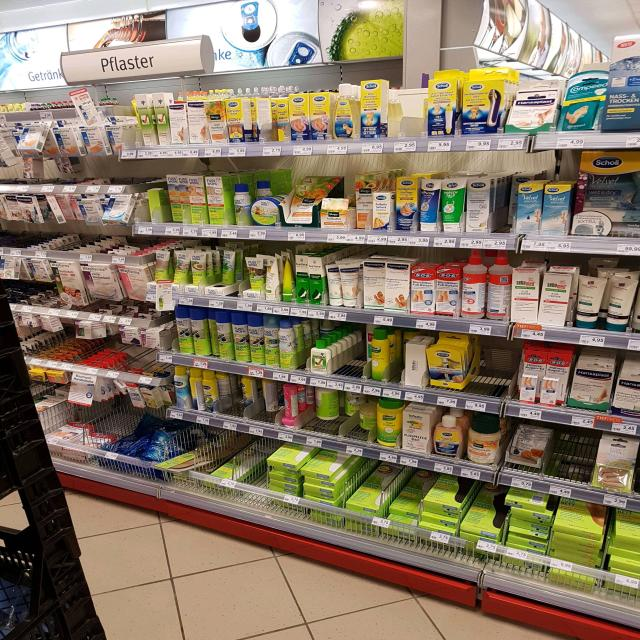empty: (550, 427, 599, 488), (468, 337, 512, 400), (387, 80, 425, 139), (234, 450, 269, 508), (331, 325, 368, 377)
